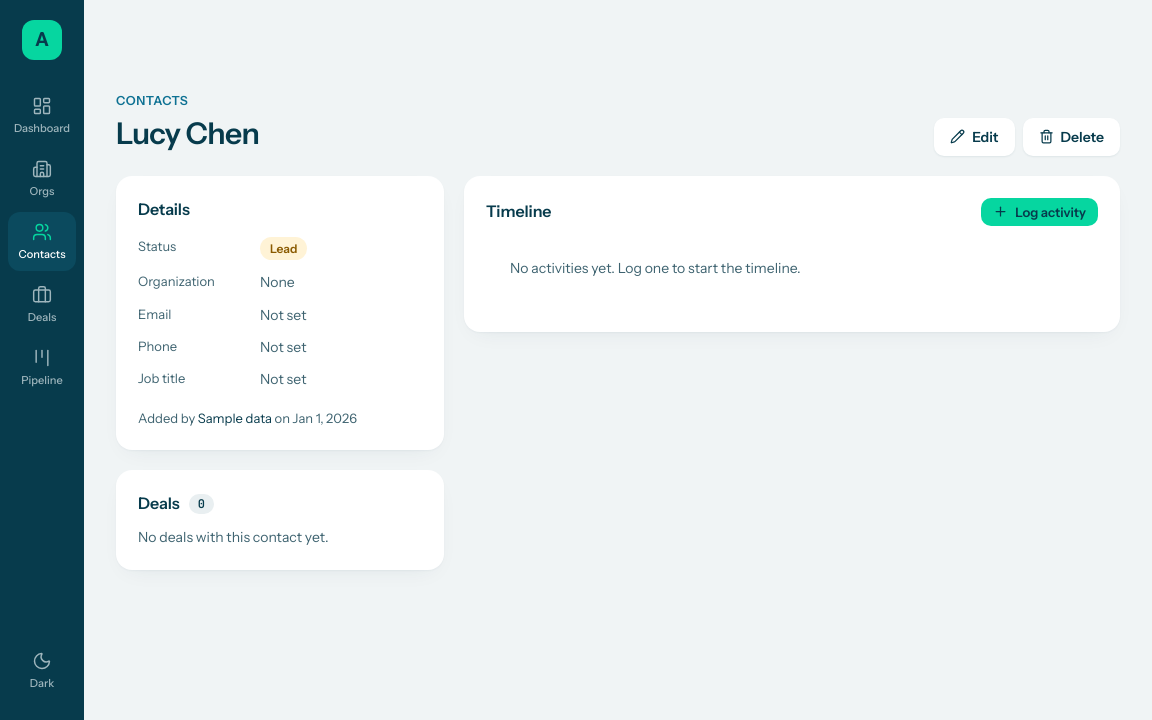
Test: a record's timeline › closes the log form on Cancel
Expected: the heading "Lucy Chen" is shown, [116,112,259,156]
Step 1. Click the button "Log activity" → (1040, 212), box [981,198,1098,226]
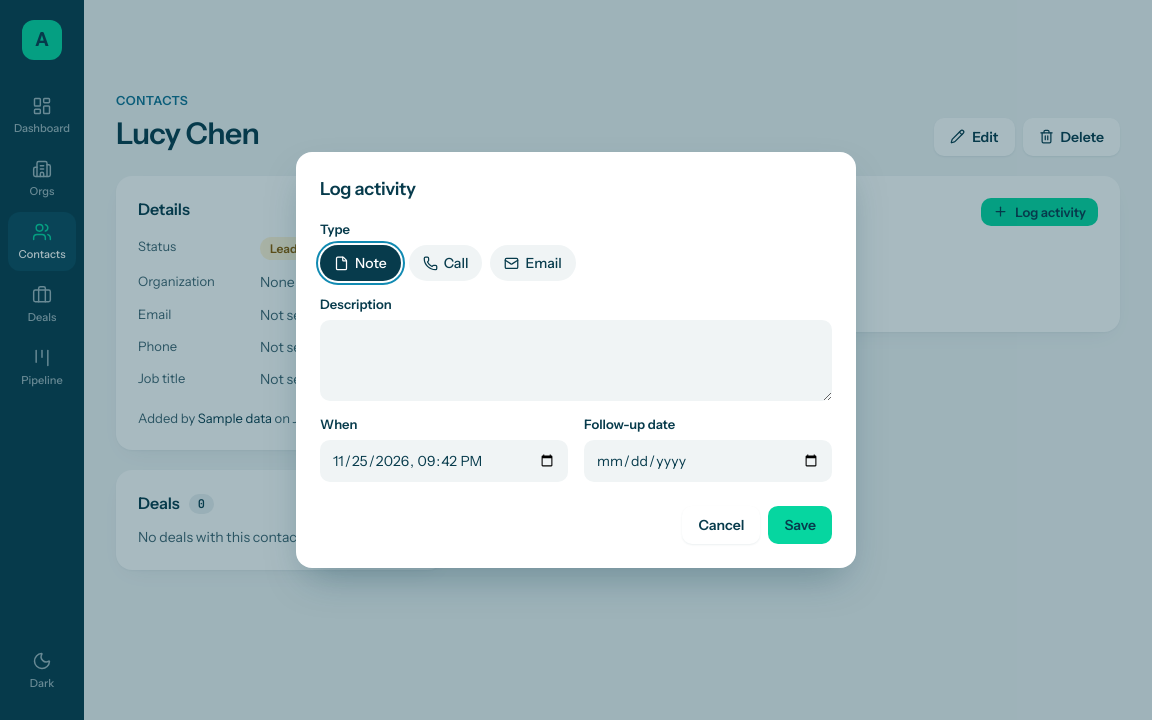
Step 2. Click the button "Cancel" → (721, 525), box [682,506,760,544]
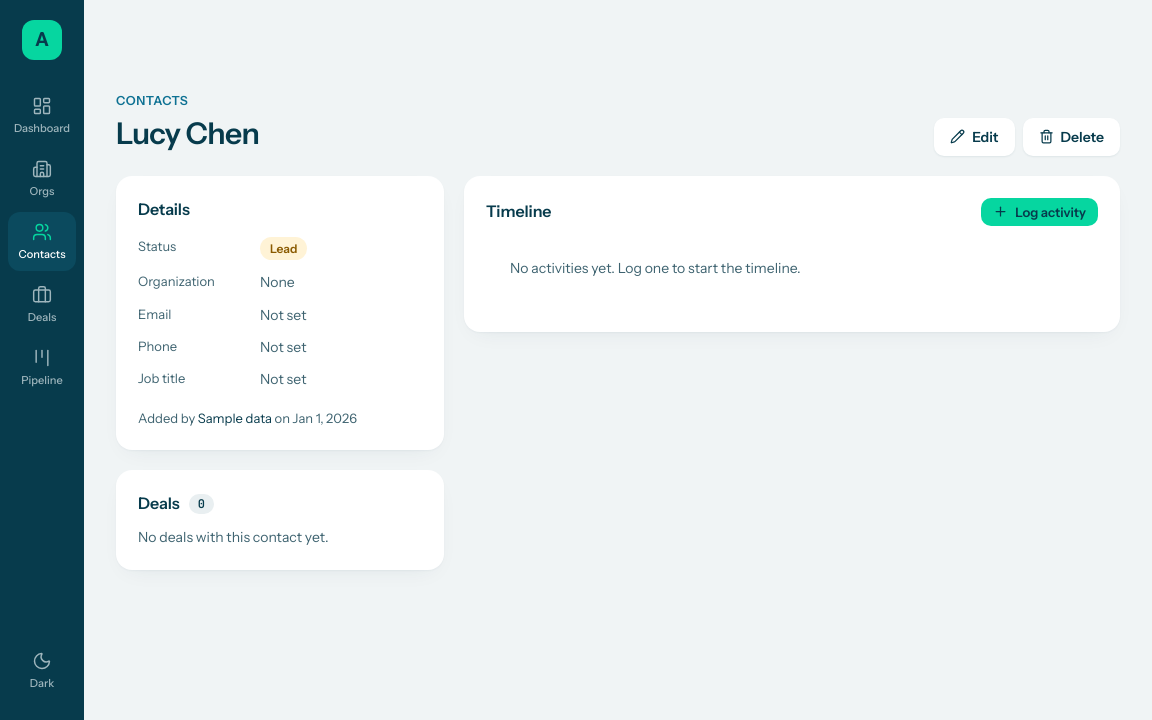
Now the dialog is gone
